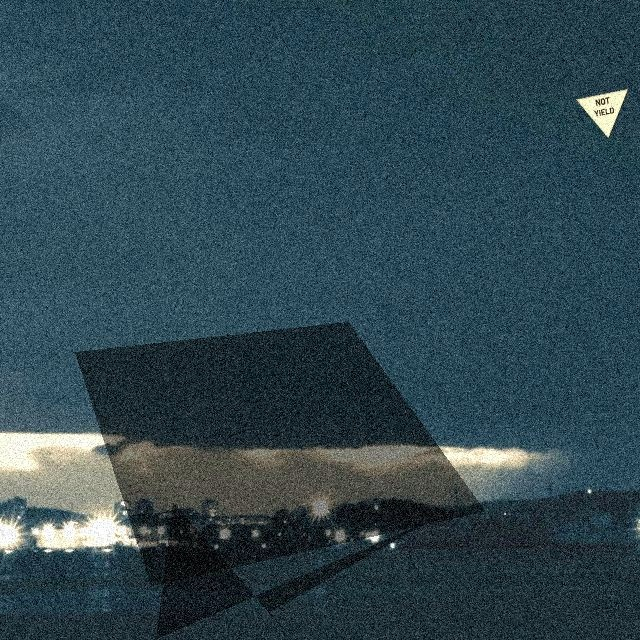NOT_YIELD: (575, 88, 629, 139)
